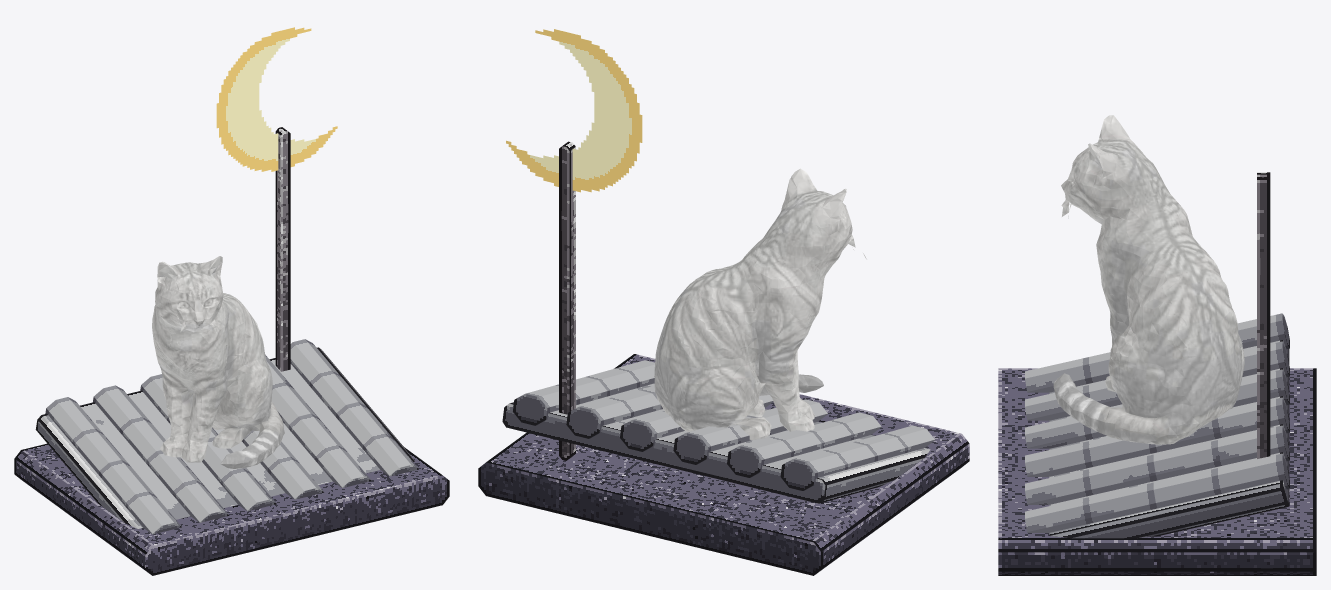
Rendered from moon.glb.
The picture shows the model from 3 angles, left to right: view 1: azimuth 30°, elevation 25°; view 2: azimuth 150°, elevation 25°; view 3: azimuth 270°, elevation 25°; orthographic projection. The views are drawn at different scales.
Visible parts, largest first — view 1: model_cat, base, roof, moon, tile0, tile5, tile1, tile4, pole, tile2, tile3; view 2: base, model_cat, roof, moon, pole, tile0, tile1, tile5, tile4, tile2, tile3; view 3: model_cat, base, tile5, roof, tile4, tile3, pole, tile0, tile2, tile1.
Boxes of the visible parts, <box> form: model_cat: <box>152,256,284,468</box>; base: <box>14,443,449,575</box>; roof: <box>35,347,414,528</box>; moon: <box>216,27,337,171</box>; tile0: <box>45,397,181,534</box>; tile5: <box>290,339,418,476</box>; tile1: <box>93,385,229,522</box>; tile4: <box>265,355,371,487</box>; pole: <box>275,127,290,371</box>; tile2: <box>140,374,276,511</box>; tile3: <box>242,430,323,499</box>; base: <box>478,354,969,575</box>; model_cat: <box>654,168,866,439</box>; roof: <box>502,383,930,503</box>; moon: <box>506,29,642,192</box>; pole: <box>559,141,575,460</box>; tile0: <box>780,425,934,490</box>; tile1: <box>727,412,881,477</box>; tile5: <box>513,360,654,425</box>; tile4: <box>566,385,662,438</box>; tile2: <box>673,399,827,464</box>; tile3: <box>620,395,773,451</box>; model_cat: <box>1053,115,1244,444</box>; base: <box>998,368,1316,575</box>; tile5: <box>1025,453,1289,532</box>; roof: <box>1049,340,1289,538</box>; tile4: <box>1025,425,1289,504</box>; tile3: <box>1025,397,1289,476</box>; pole: <box>1257,172,1270,511</box>; tile0: <box>1025,313,1289,392</box>; tile2: <box>1025,369,1289,448</box>; tile1: <box>1025,341,1289,420</box>.
Bounding box in the file's own units: 33 × 41 × 24.
3 materials, 3 textured.
